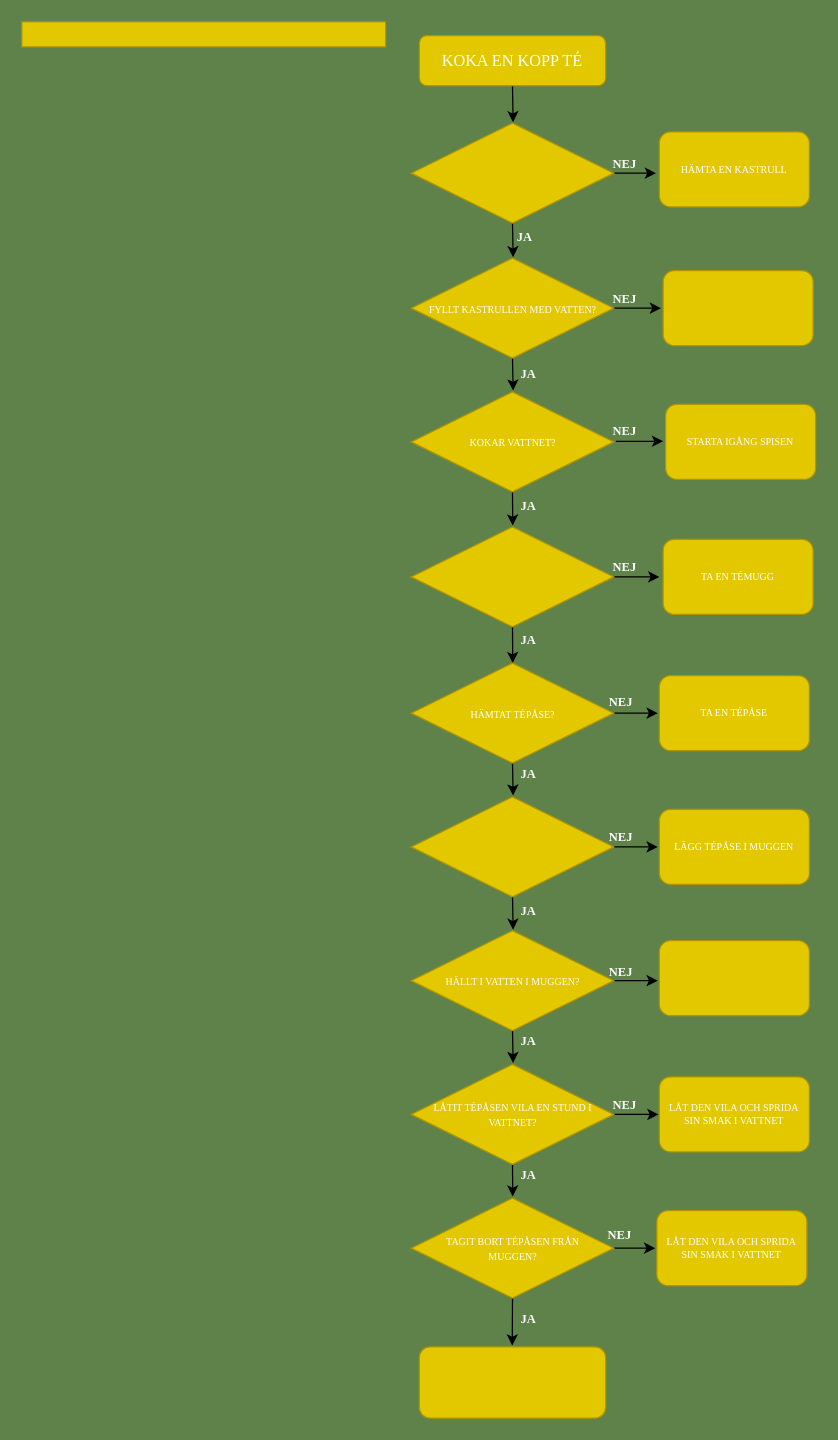
Image size: 838x1440. Some labels were removed from this diagram. Each missing label, with the centre of its shape:
FLÖDESDIAGRAM FÖR ATT KOKA EN KOPP TÉ: point (203, 34)
FYLL KASTRULLEN: point (737, 307)
HÄLL VATTEN I MUGGEN: point (733, 977)
HÄMTAT EN KASTRULL?: point (512, 172)
HÄMTAT MUGG?: point (512, 576)
LAGT TÉPÅSE I MUGGEN?: point (512, 846)
LÅT DET GODA TÉ SMAKA: point (512, 1382)
